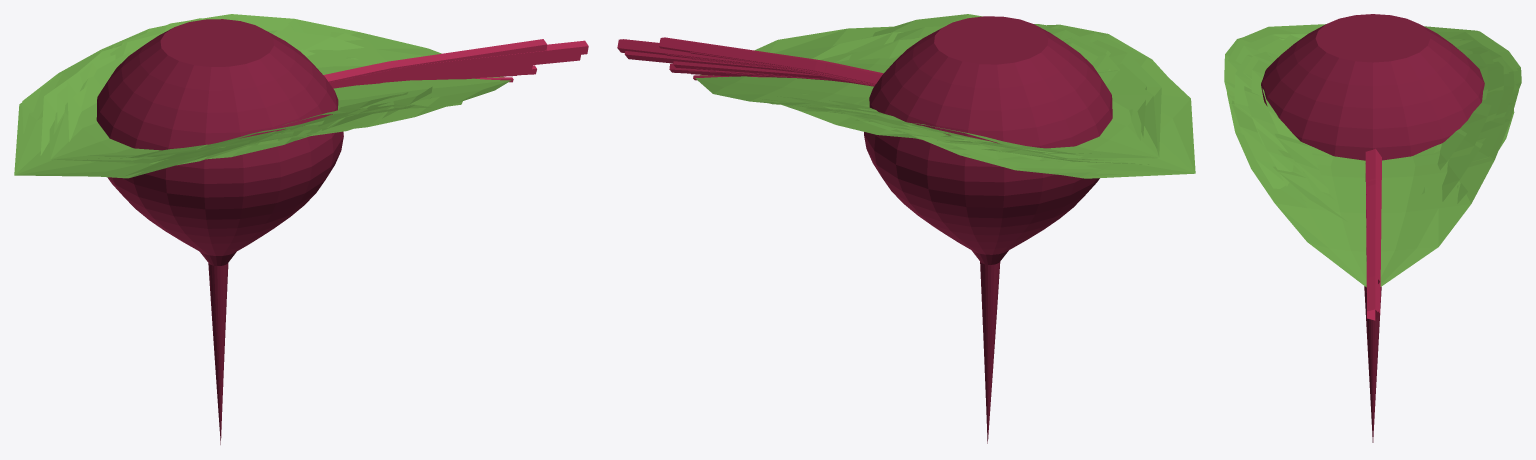
File: beetroot_harvest_v08.articulated.glb
The picture shows the model from 3 angles, left to right: view 1: azimuth 30°, elevation 25°; view 2: azimuth 150°, elevation 25°; view 3: azimuth 270°, elevation 25°; orthographic projection.
Visible parts, largest first — view 1: root, leaf06_link2, leaf07_link2, leaf04_link0, leaf00_link2, leaf10_link2, leaf04_link2, leaf07_link0, leaf05_link2, leaf03_link2, leaf02_link2, leaf06_link0 (+2 smaller); view 2: root, leaf06_link2, leaf07_link2, leaf10_link2, leaf04_link2, leaf07_link0, leaf05_link2, leaf04_link0, leaf02_link0, leaf01_link2, leaf06_link0, leaf03_link2 (+4 smaller); view 3: root, leaf06_link2, leaf07_link2, leaf10_link2, leaf00_link2, leaf04_link2, leaf07_link0, leaf03_link2, leaf11_link2, leaf05_link2, leaf08_link2, leaf02_link2 (+4 smaller).
Part boxes in pixels (x1,y1,x2,y2): root: [96, 19, 343, 444]; leaf06_link2: [14, 14, 513, 176]; leaf07_link2: [49, 23, 432, 163]; leaf04_link0: [329, 40, 588, 88]; leaf00_link2: [40, 30, 393, 165]; leaf10_link2: [51, 50, 408, 160]; leaf04_link2: [67, 31, 462, 161]; leaf07_link0: [328, 39, 547, 82]; leaf05_link2: [22, 18, 431, 178]; leaf03_link2: [88, 18, 365, 159]; leaf02_link2: [57, 54, 416, 164]; leaf06_link0: [367, 55, 580, 84]; root: [864, 16, 1112, 443]; leaf06_link2: [693, 24, 1195, 178]; leaf07_link2: [806, 32, 1161, 168]; leaf10_link2: [800, 38, 1157, 162]; leaf04_link2: [762, 14, 1073, 153]; leaf07_link0: [659, 37, 875, 84]; leaf05_link2: [822, 24, 1165, 176]; leaf04_link0: [617, 39, 874, 85]; leaf02_link0: [673, 61, 873, 86]; leaf01_link2: [855, 37, 1146, 160]; leaf06_link0: [624, 51, 874, 86]; leaf03_link2: [769, 26, 1141, 161]; root: [1261, 14, 1484, 442]; leaf06_link2: [1227, 24, 1518, 287]; leaf07_link2: [1235, 34, 1514, 221]; leaf10_link2: [1267, 34, 1487, 200]; leaf00_link2: [1244, 31, 1482, 201]; leaf04_link2: [1231, 40, 1514, 203]; leaf07_link0: [1365, 159, 1381, 283]; leaf03_link2: [1234, 54, 1505, 161]; leaf11_link2: [1251, 56, 1491, 158]; leaf05_link2: [1224, 29, 1521, 202]; leaf08_link2: [1262, 45, 1466, 170]; leaf02_link2: [1248, 39, 1493, 188].
Size of the model in its own units: 0.2048 by 0.1381 by 0.0918.
1 material, 1 textured.
